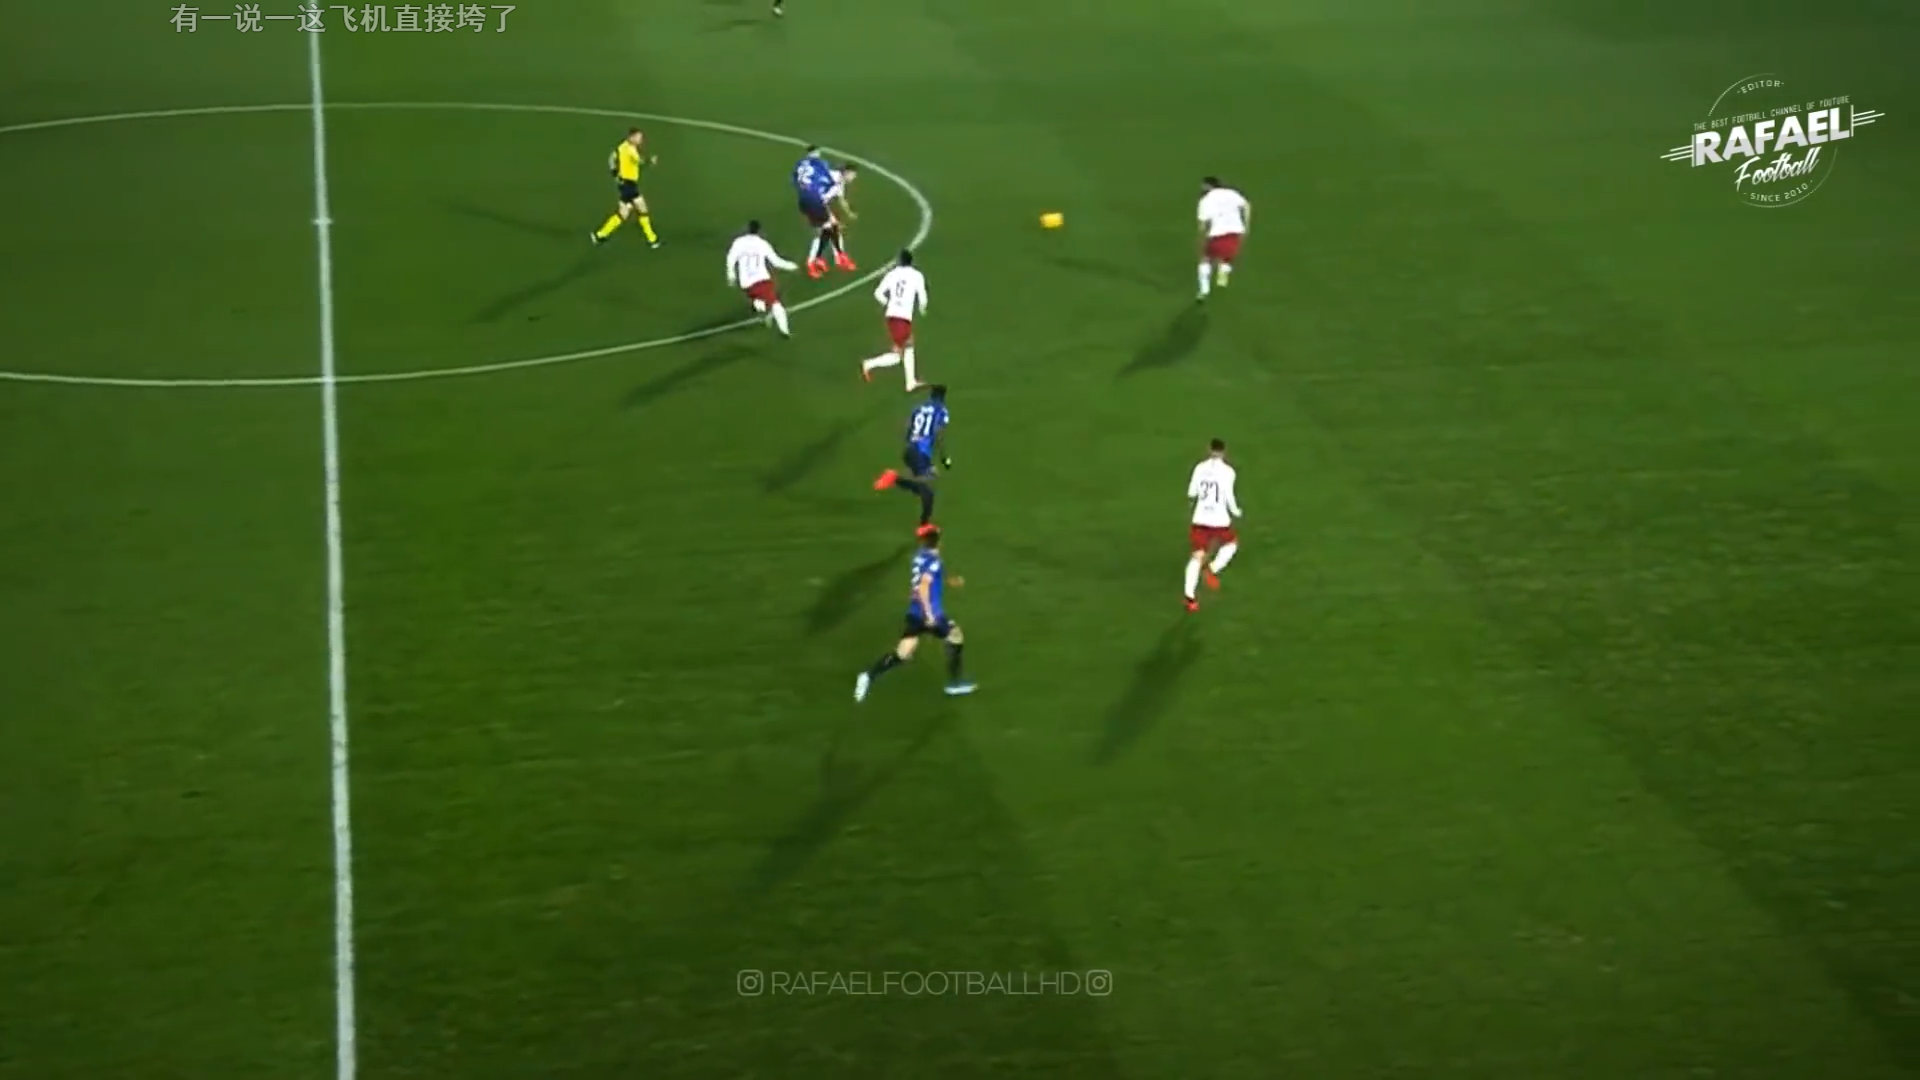ft: (1036, 207, 1065, 233)
